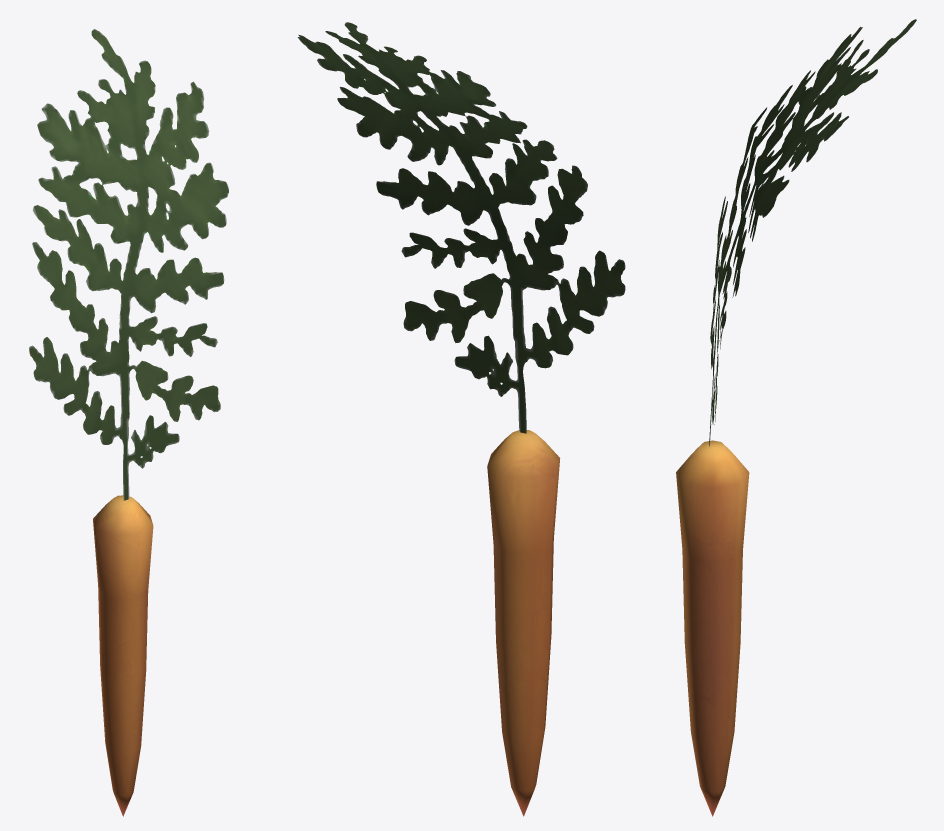
File: SM_Carrot.fbx
3 renders of one model, left to right at view 1: azimuth 30°, elevation 25°; view 2: azimuth 150°, elevation 25°; view 3: azimuth 270°, elevation 25°, orthographic. The views are drawn at different scales.
Visible parts, largest first — view 1: Cenoura; view 2: Cenoura; view 3: Cenoura.
Part boxes in pixels (x1=…): Cenoura: x1=29, y1=29, x2=228, y2=816; Cenoura: x1=297, y1=22, x2=625, y2=816; Cenoura: x1=676, y1=19, x2=916, y2=816.
Size of the model in its own units: 45.35 by 121 by 33.19.
